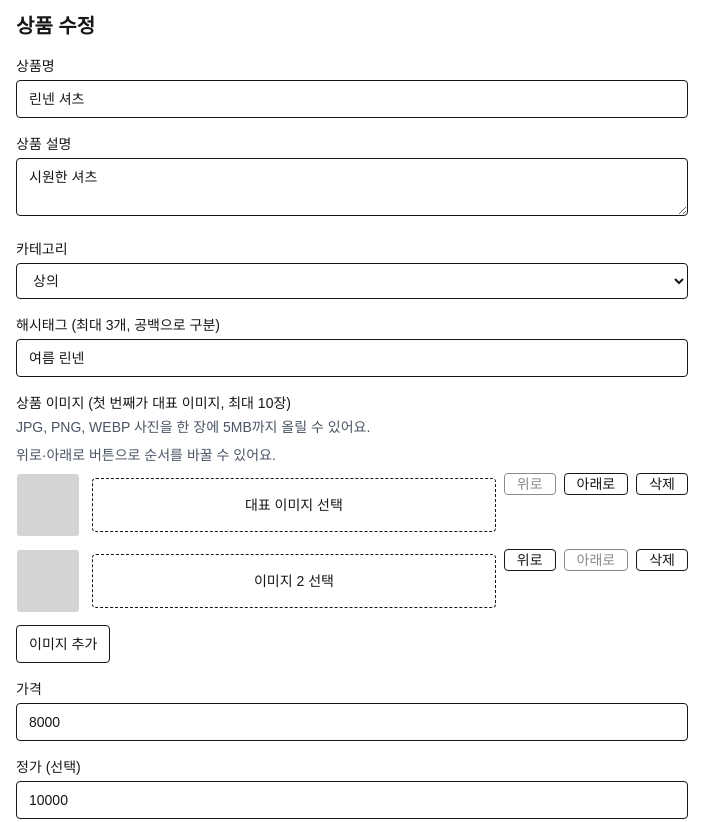
Test: AdminProductEditForm 이미지 줄 › 성공: 줄이 2개 이상일 때만 삭제 버튼이 있고, 하나 남으면 사라진다
Click the button with aria-label "이미지 2 삭제": coordinates (662, 560) [636,549,688,571]
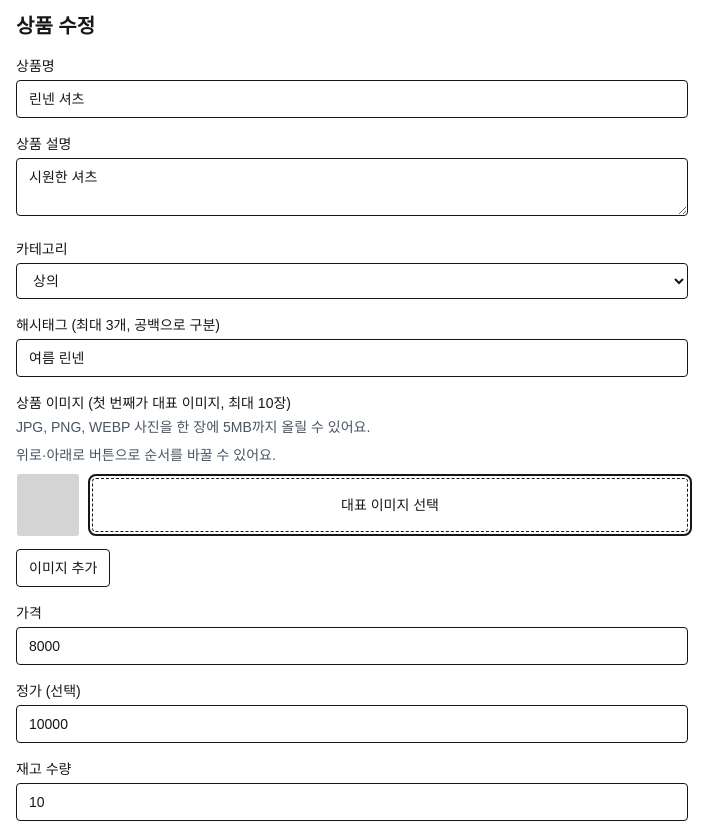
Expected: the button "삭제" is gone
